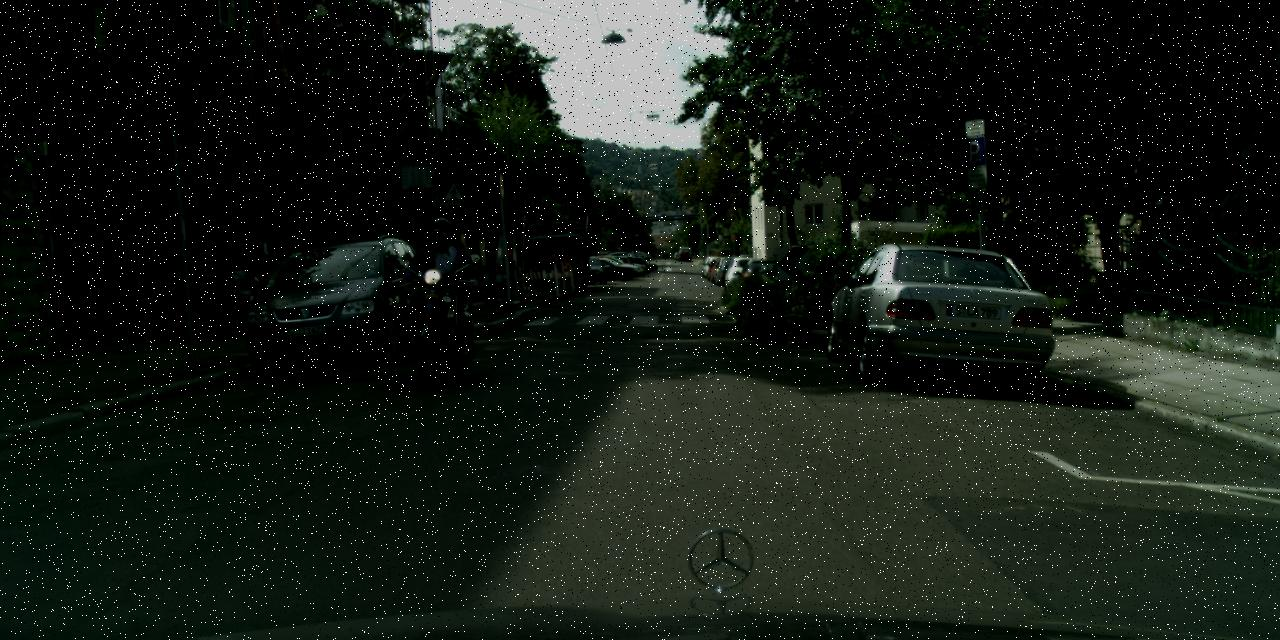ped: (413, 217, 470, 356)
